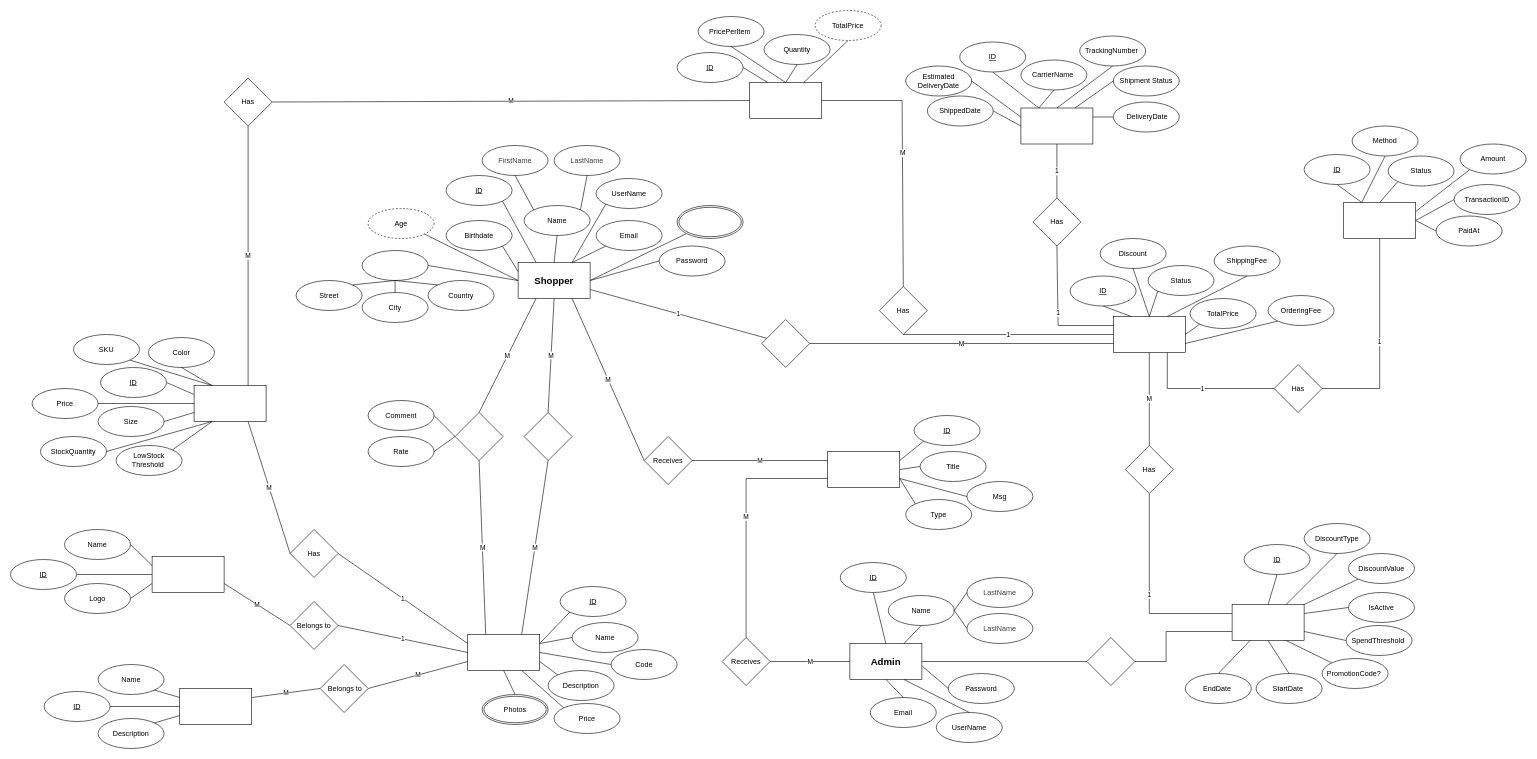
This 1537x759 diagram has some shape labels left out. The centre of each missing label's shape, as x and y in pixels:
Address: (395,265)
Adjust: (1110,661)
Brand: (188,574)
Category: (215,706)
DiscountRules: (1268,622)
Favorites: (548,436)
Item: (503,652)
Item Variants: (230,403)
Notifications: (863,469)
Order: (1149,334)
OrderDetails: (785,100)
Payment: (1379,220)
Phone: (709,221)
Places: (785,343)
Review: (478,436)
Shipments: (1056,125)
